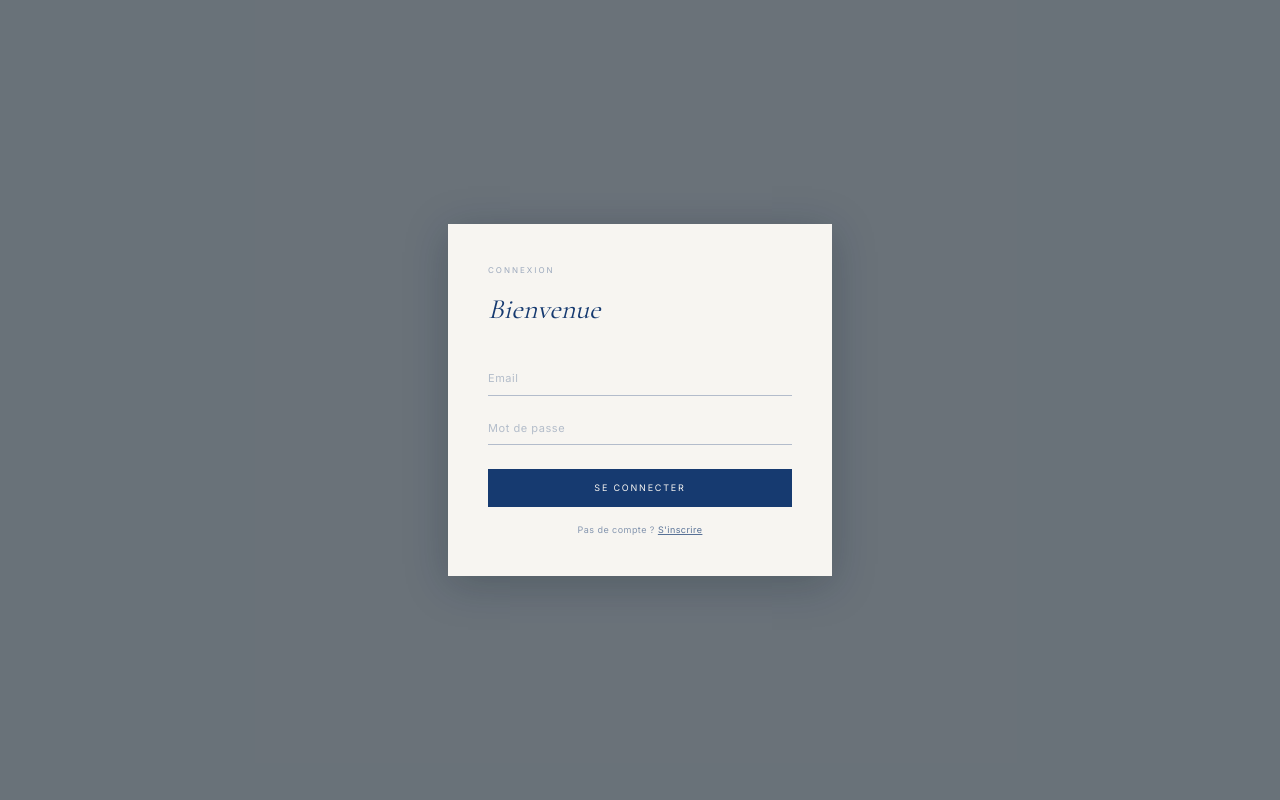
Test: AuthModal › displays error message on failed signIn
Type "bad@test.com" into the field with placeholder "Email". click: (640, 379)
box: [488,362,792,396]
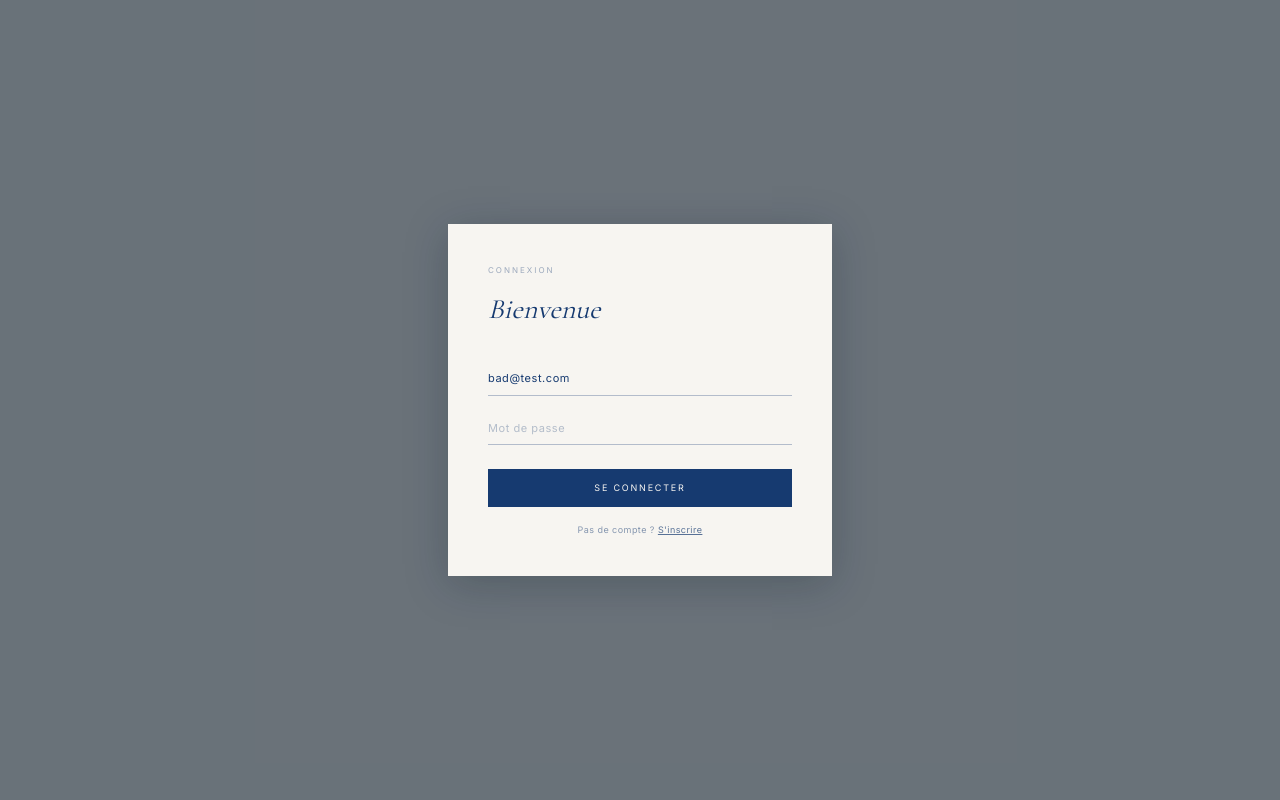
Type "wrong" into the password field with placeholder "Mot de passe". click: (640, 428)
box: [488,412,792,445]
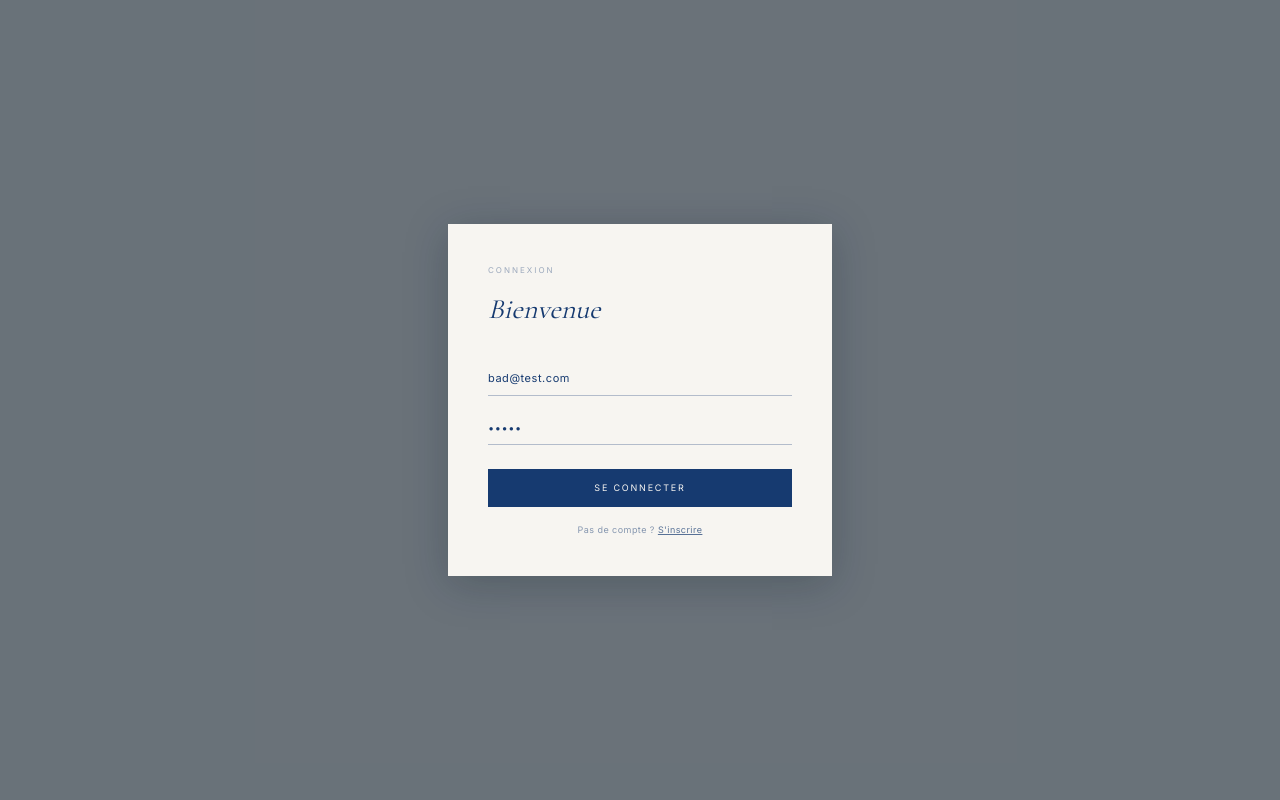
Submit the form, box [488,362,792,506]
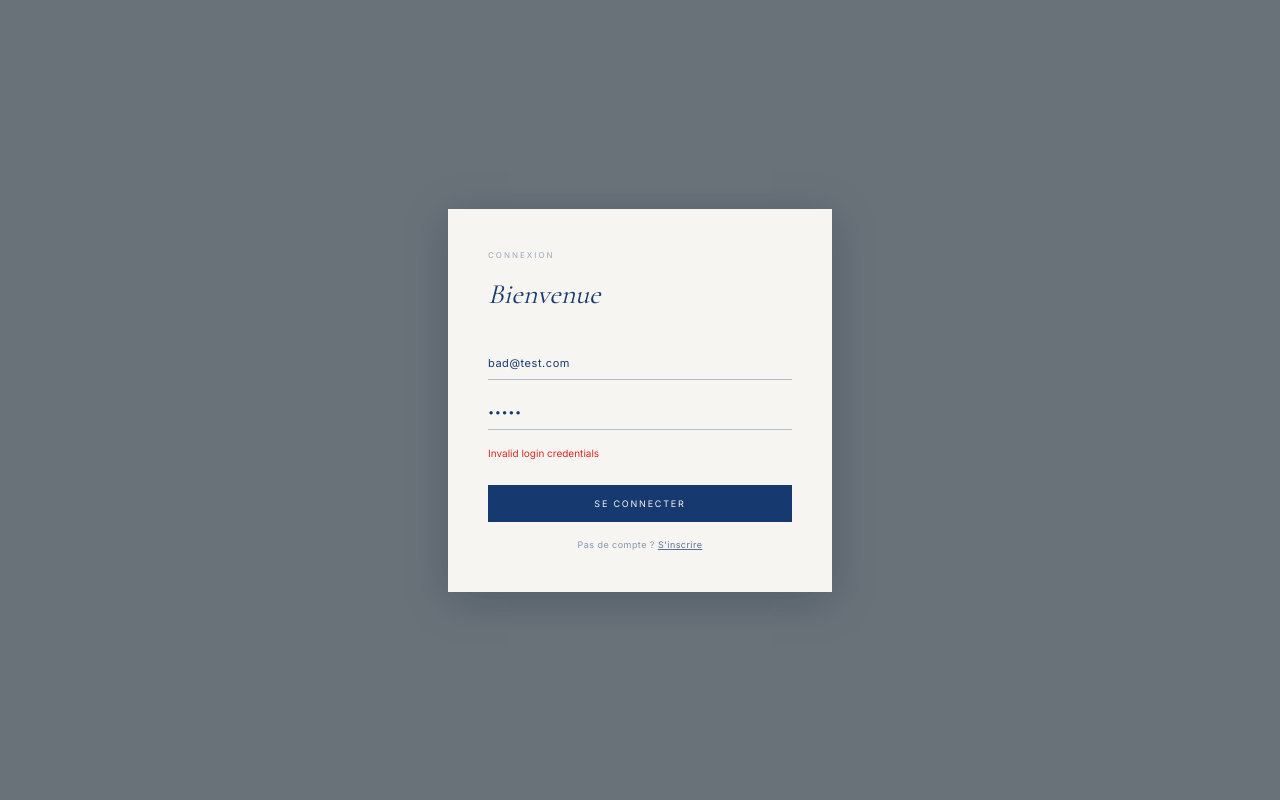
Expected: the text "Invalid login credentials" is shown, [488,446,599,458]
